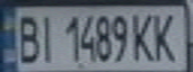1: (60, 11, 81, 62)
4: (78, 10, 96, 62)
8: (93, 11, 115, 62)
9: (109, 11, 133, 63)
B: (12, 10, 42, 64)
I: (33, 10, 60, 63)
K: (148, 9, 184, 63), (130, 9, 157, 62)
